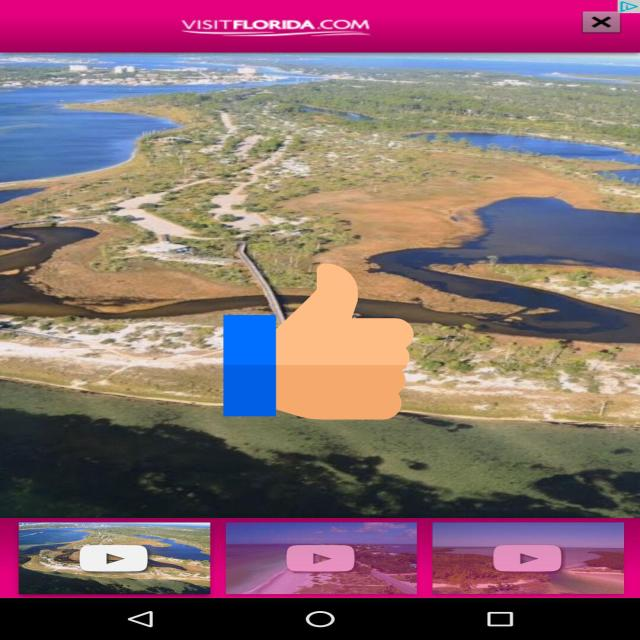privacy zuckering: (224, 260, 414, 423)
